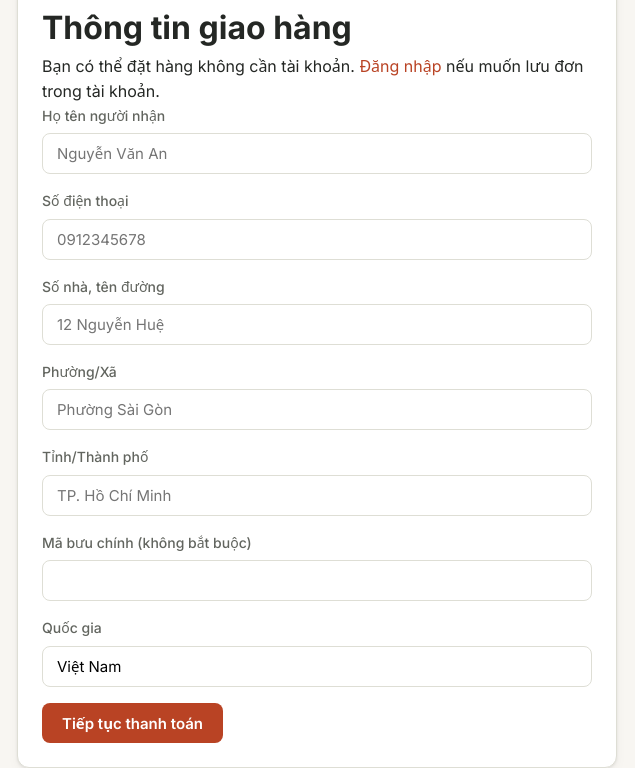
invalid shipping stays on the form and does not save an address
(page scrolled)
Click the button "Tiếp tục thanh toán" at (132, 722), box 42,702 -> 223,742
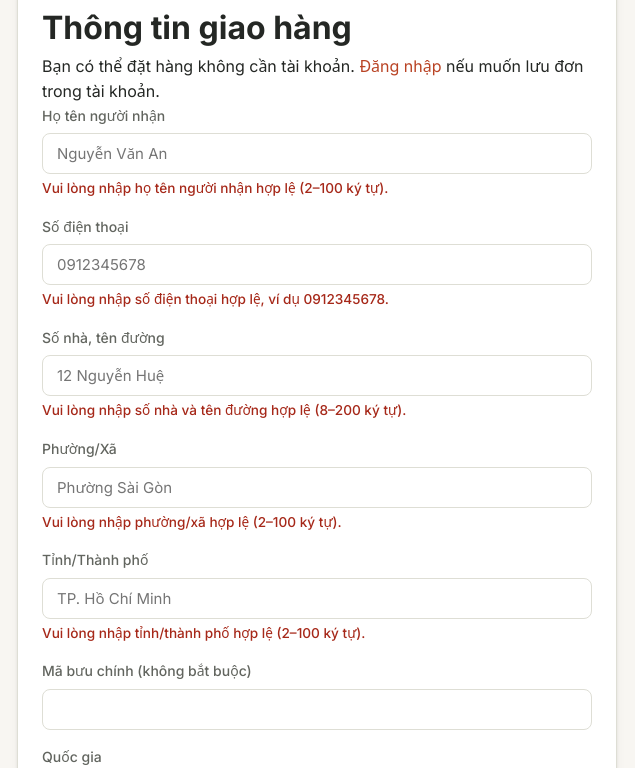
expect the text "Vui lòng nhập số điện thoại hợp lệ, ví dụ 0912345678." is shown: met, box 42,291 -> 389,307
